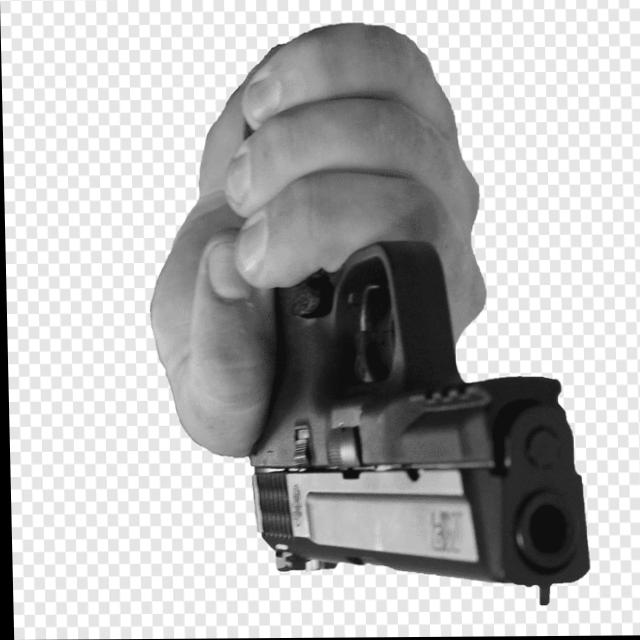handgun: (244, 239, 590, 617)
